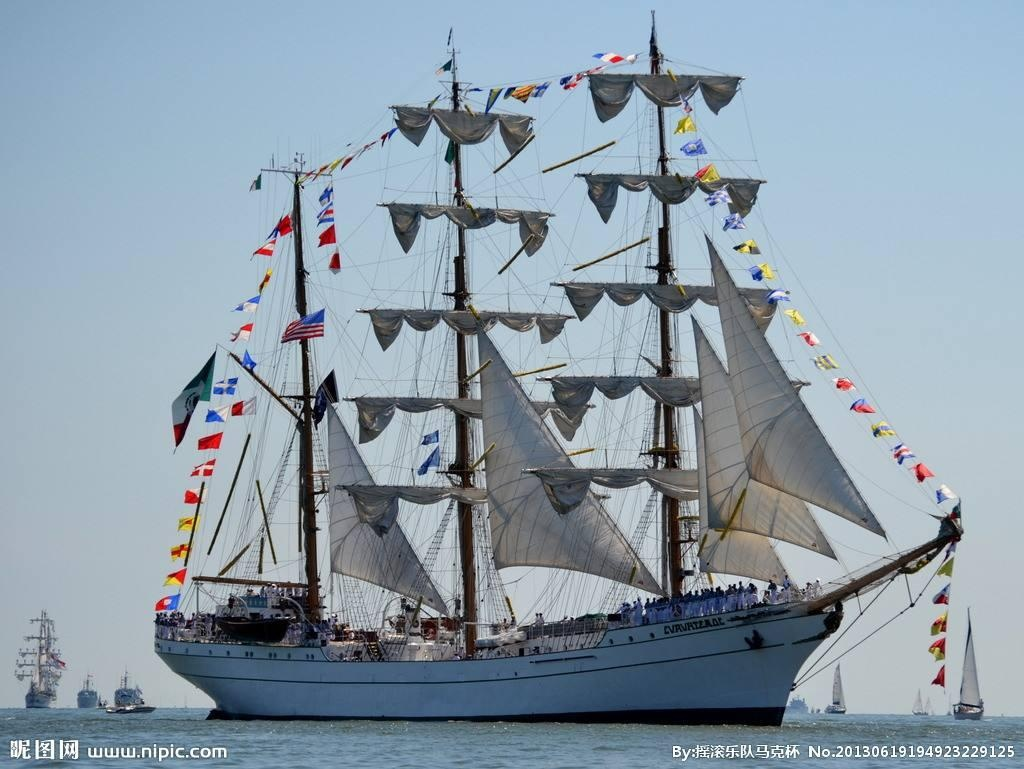fanchuan: (153, 10, 963, 722), (17, 603, 71, 711), (952, 608, 995, 719), (821, 661, 858, 717)
otherboat: (111, 669, 145, 711), (75, 671, 102, 714)
